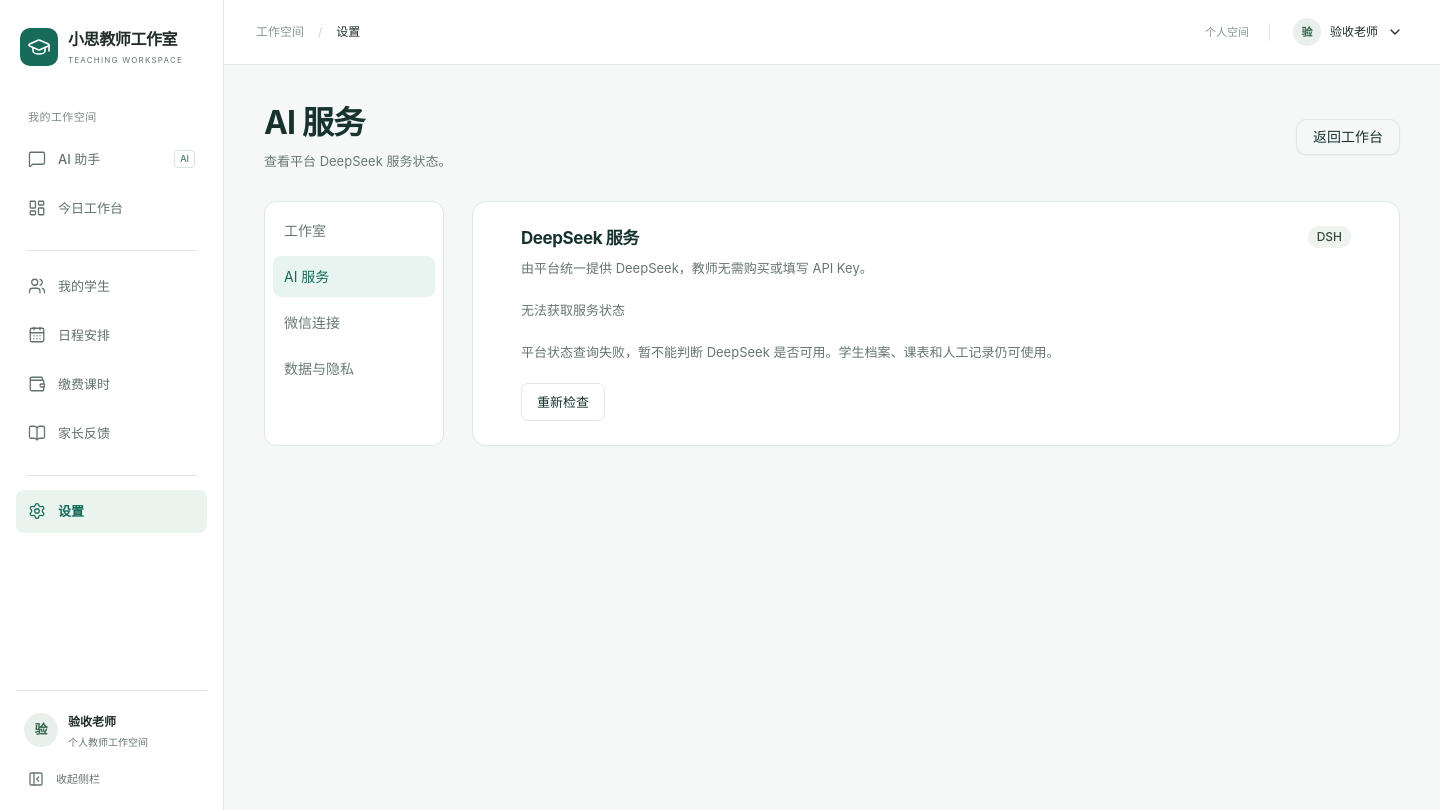
Test: connected workspace server-backed writes › distinguishes an AI status lookup failure and can check again
Expected: the text "无法获取服务状态" is shown, [521,302,625,318]
Click the button "重新检查" at (563, 402), box [521,383,605,421]
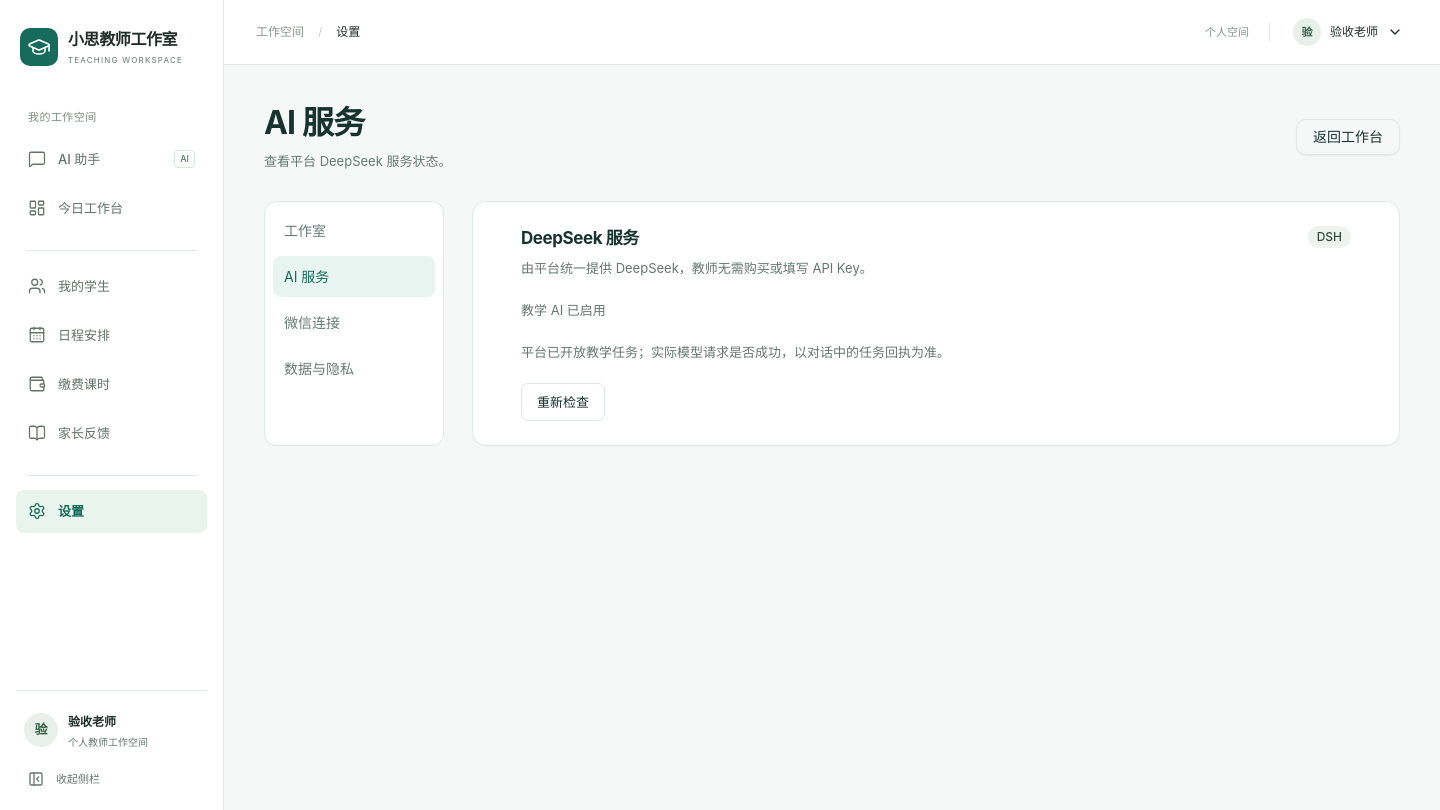
Expected: the text "教学 AI 已启用" is shown, [521,302,606,318]
